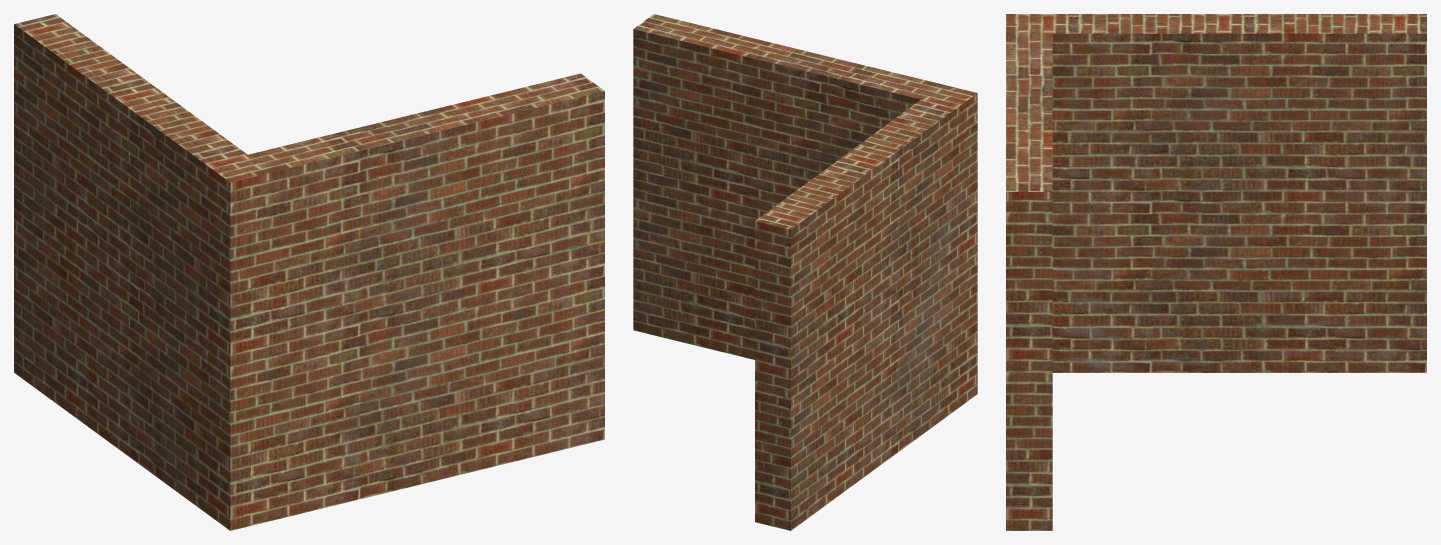
Rendered from brick_wall_lshaped_1.dae.
3 renders of one model, left to right at view 1: azimuth 30°, elevation 25°; view 2: azimuth 150°, elevation 25°; view 3: azimuth 270°, elevation 25°, orthographic. The views are drawn at different scales.
Visible parts, largest first — view 1: SketchUp; view 2: SketchUp; view 3: SketchUp.
Part boxes in pixels (bbox=[...]): SketchUp: bbox=[14, 14, 604, 530]; SketchUp: bbox=[633, 14, 977, 530]; SketchUp: bbox=[1006, 14, 1426, 530].
Bounding box in the file's own units: 88.58 × 88.58 × 78.74.
